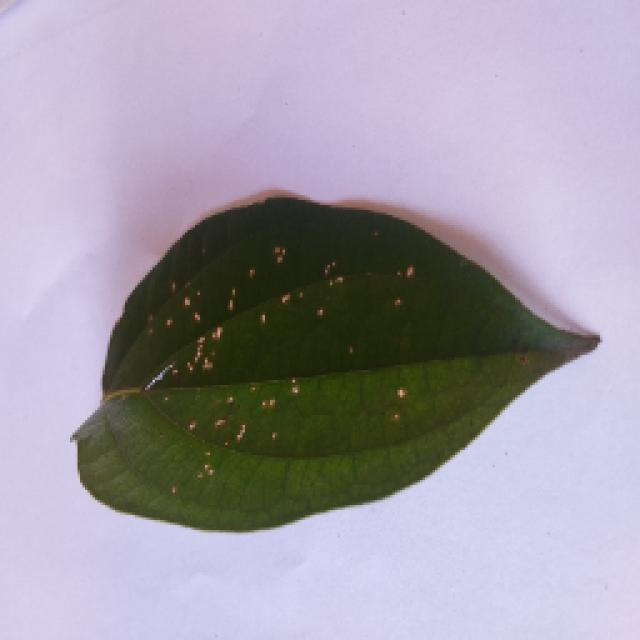pollu-disease: (73, 192, 595, 530)
